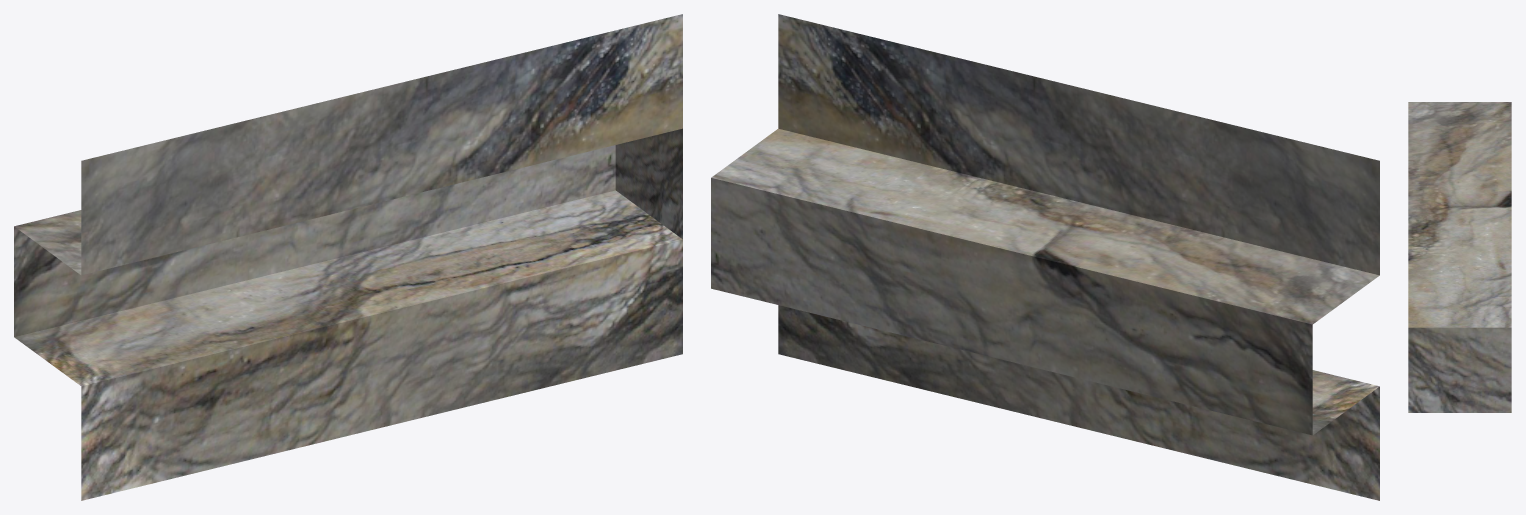
File: Parede.fbx
3 views of the same model, side by side, from view 1: azimuth 30°, elevation 25°; view 2: azimuth 150°, elevation 25°; view 3: azimuth 270°, elevation 25° (orthographic). The views are drawn at different scales.
Visible parts, largest first — view 1: Plane; view 2: Plane; view 3: Plane.
Boxes of the visible parts, x1,y1,x2,y2 form: Plane: (14,14,682,500); Plane: (711,14,1379,500); Plane: (1408,102,1511,412).
Size of the model in its own units: 3641 by 1967 by 704.
